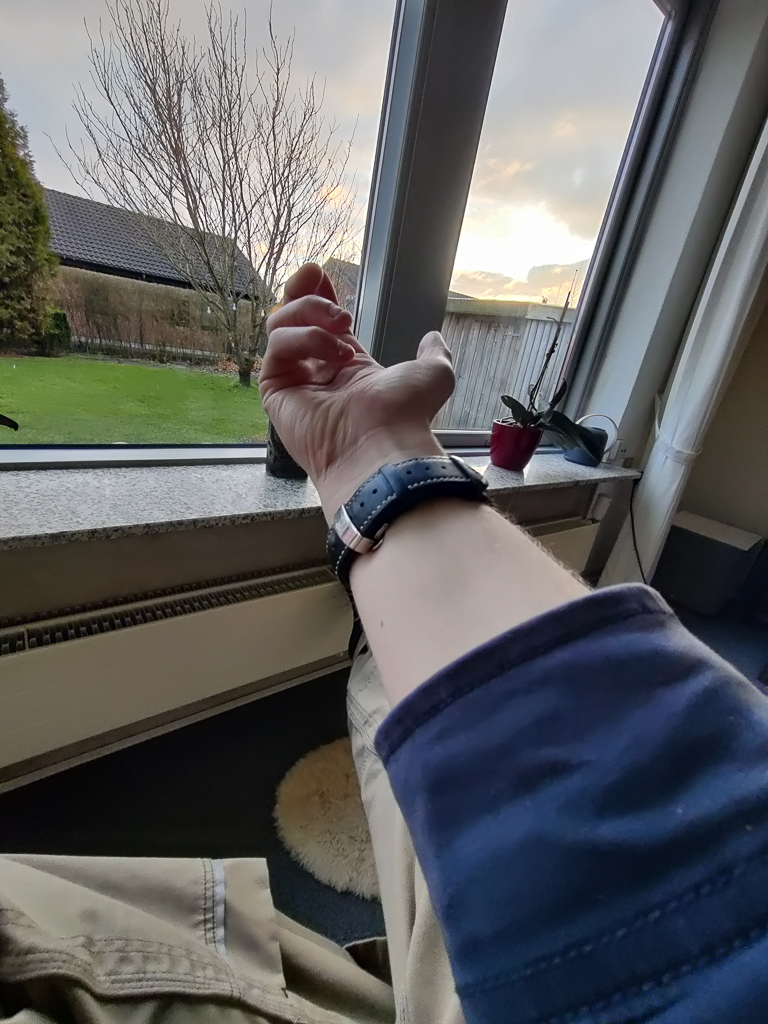Humanoid: (0, 242, 768, 1024)
